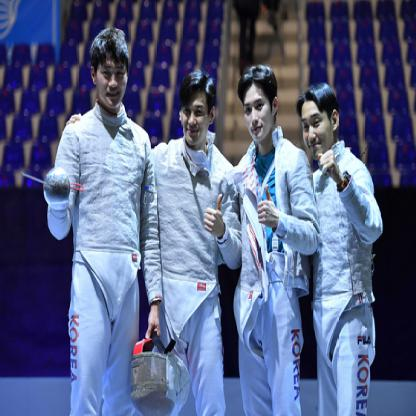fencer: (46, 20, 163, 413), (149, 64, 245, 414), (293, 77, 388, 412), (234, 66, 319, 412)
